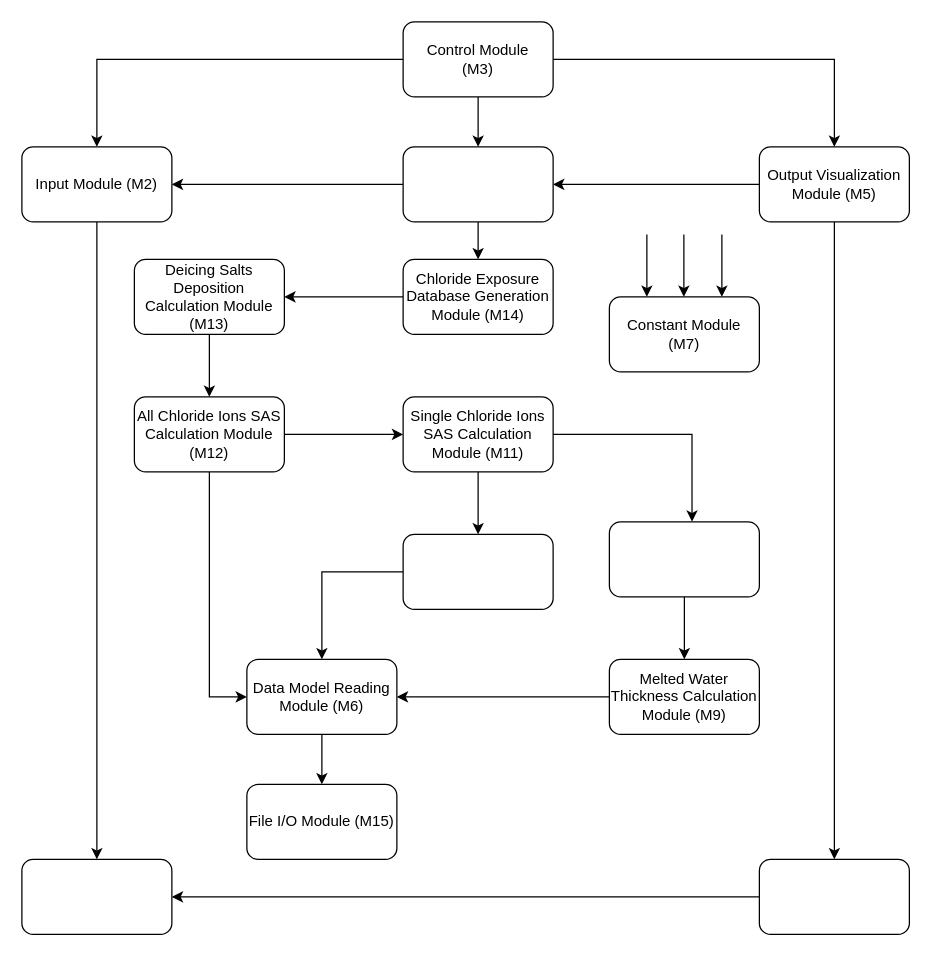
The diagram is 931 pixels wide and 956 high, and some of its shapes have lost their labels. The shapes that lost their labels are listed below. From the top down, each one's box as (x1, y1, x2, y2) in pixels, then its label:
(402, 146, 553, 222): Data Searching Module (M4)
(402, 533, 553, 609): Deicing Salts Calculation Module (M8)
(608, 521, 759, 597): Single Water SAS Calculation Module (M10)
(21, 858, 172, 934): Hardware Hiding Module (M1)
(758, 858, 909, 934): Plotting Module (M16)
